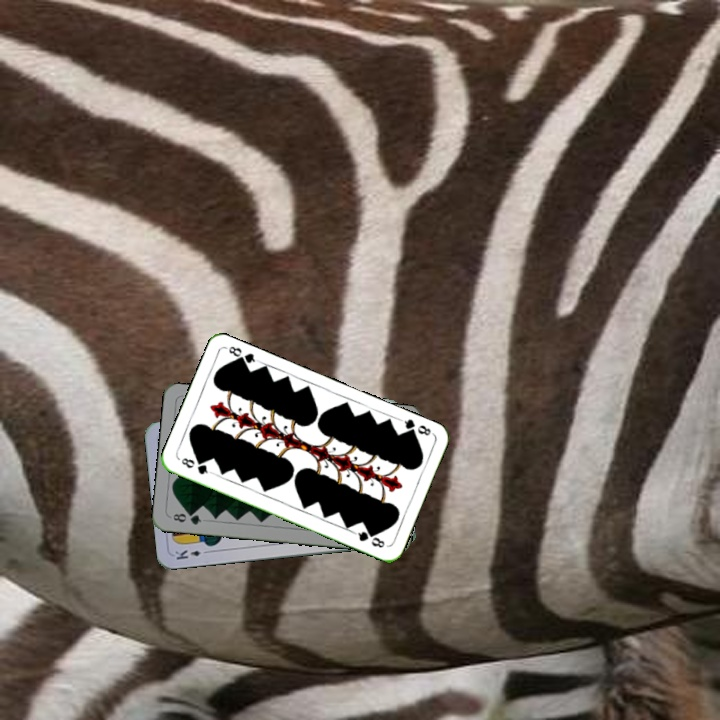EK: (171, 546, 212, 562)
G8: (396, 415, 435, 439), (177, 454, 214, 477), (169, 509, 204, 527)
